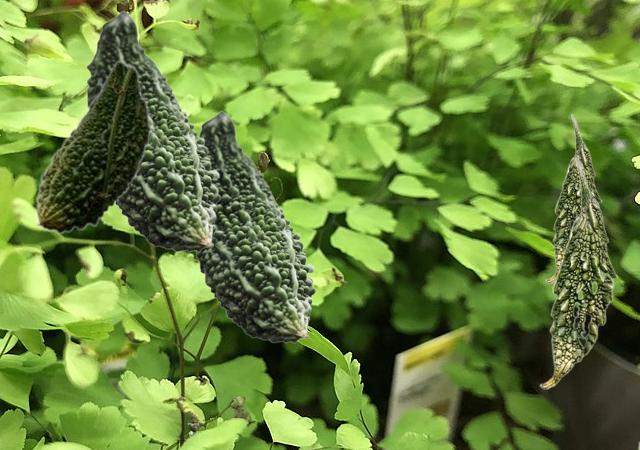ampalaya: (86, 10, 220, 251), (195, 110, 315, 342), (35, 60, 151, 233), (539, 156, 617, 388), (545, 113, 601, 282)
